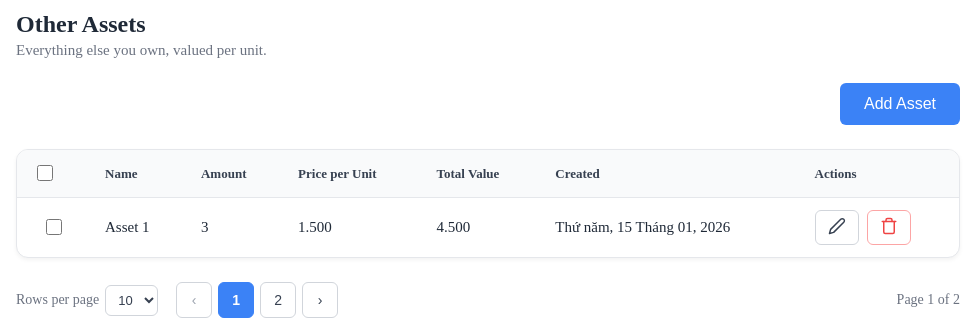
Test: OtherAssets › loads the requested page
Expected: the text "Asset 1" is shown, [89,198,185,257]
Click the button "2" at (278, 300), box [260,282,296,318]
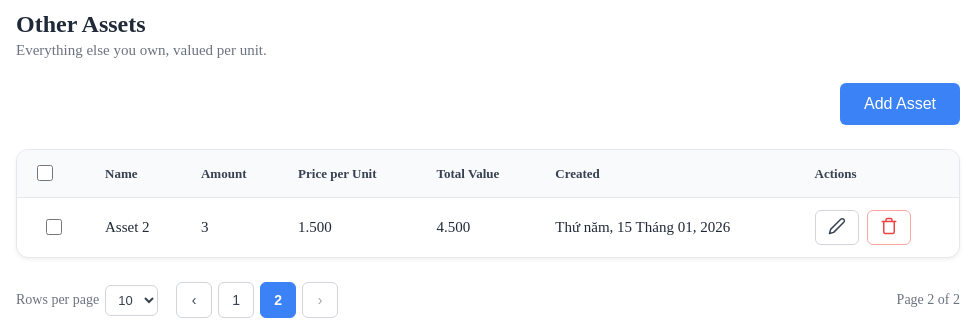
Result: the text "Asset 2" is shown at [89,198,185,257]
Result: the text "Page 2 of 2" is shown at [897,292,960,308]
